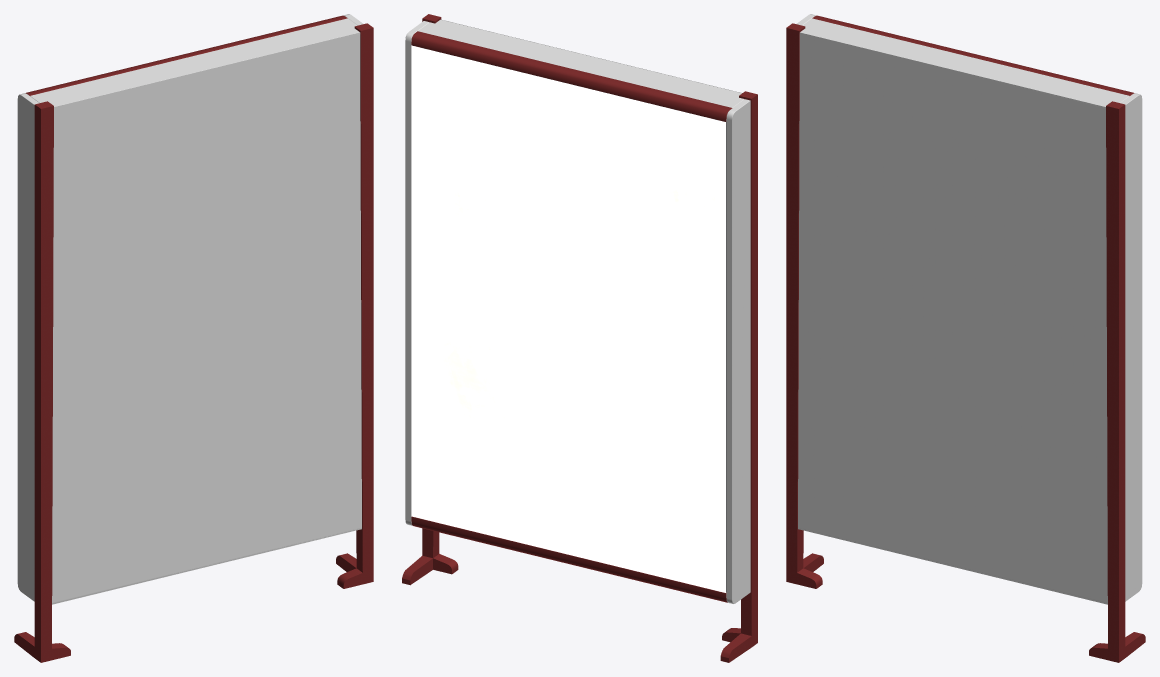
File: SM_Ads_Panel_01a.fbx
The picture shows the model from 3 angles, left to right: view 1: azimuth 30°, elevation 25°; view 2: azimuth 150°, elevation 25°; view 3: azimuth 330°, elevation 25°; orthographic projection.
Visible parts, largest first — view 1: SM_Ads_Panel_01a; view 2: SM_Ads_Panel_01a; view 3: SM_Ads_Panel_01a.
Part boxes in pixels (x1,y1,x2,y2): SM_Ads_Panel_01a: (14, 14, 373, 662); SM_Ads_Panel_01a: (402, 14, 757, 662); SM_Ads_Panel_01a: (786, 14, 1145, 662).
Size of the model in its own units: 129 by 18.8 by 205.
Materials: 3 (1 with a texture image).
